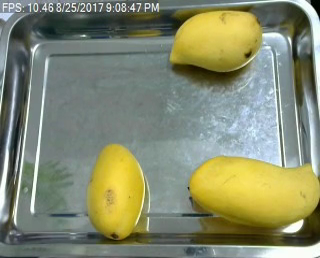Mango: (184, 151, 320, 228), (165, 8, 268, 74), (82, 141, 148, 238)
